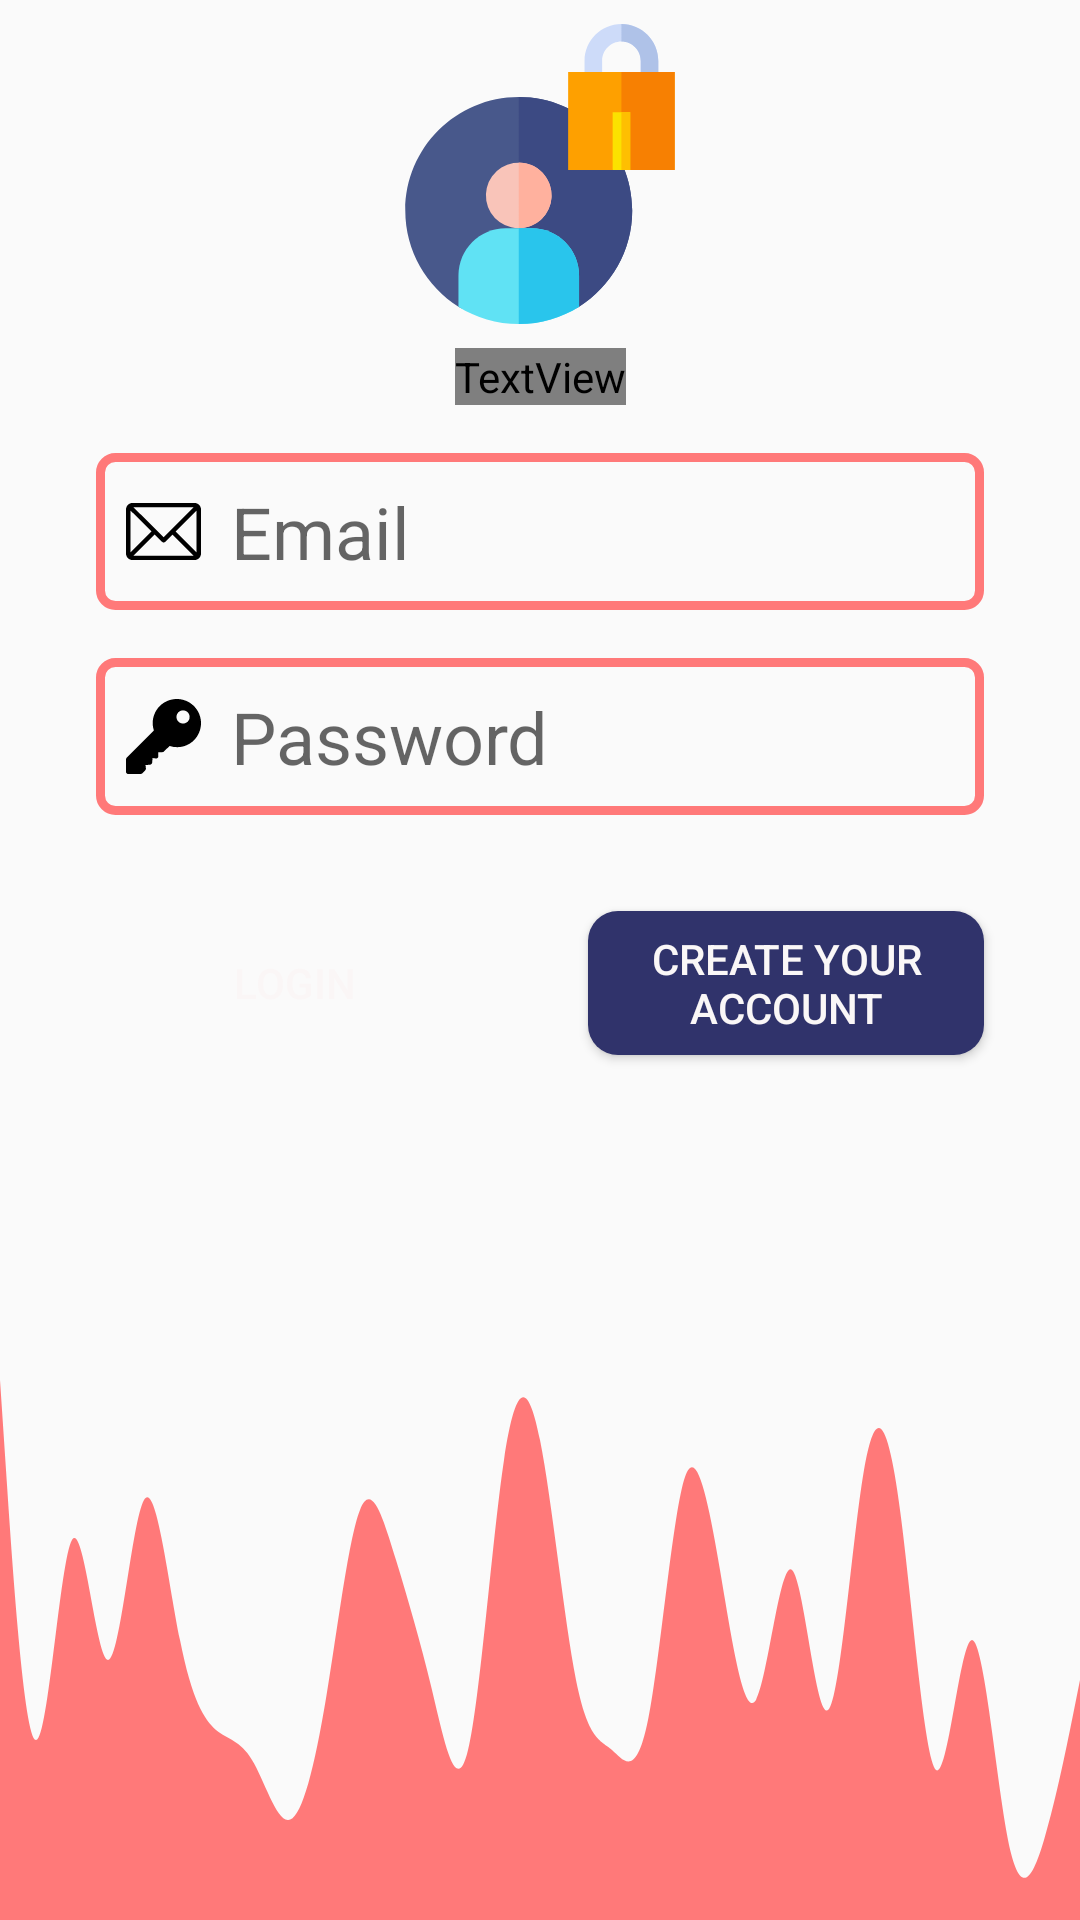

Where to tap for icons on this 1080 x 1920 app screen, as point (x, y):
user: point (540, 174)
